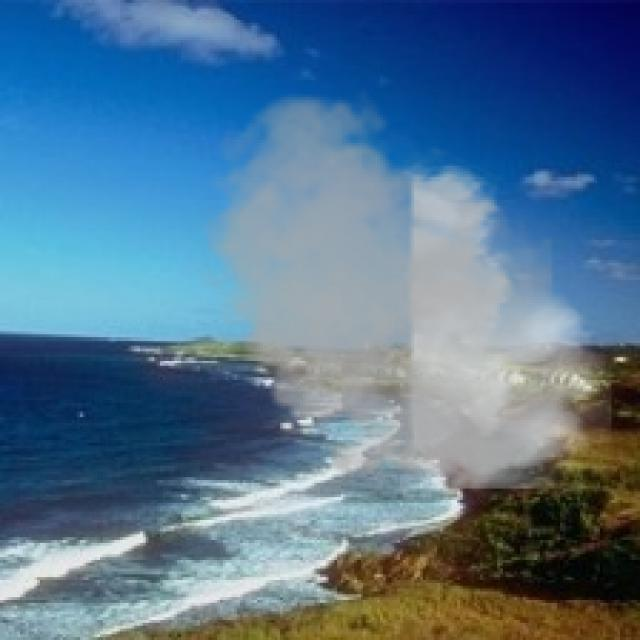smoke: (188, 86, 612, 506)
